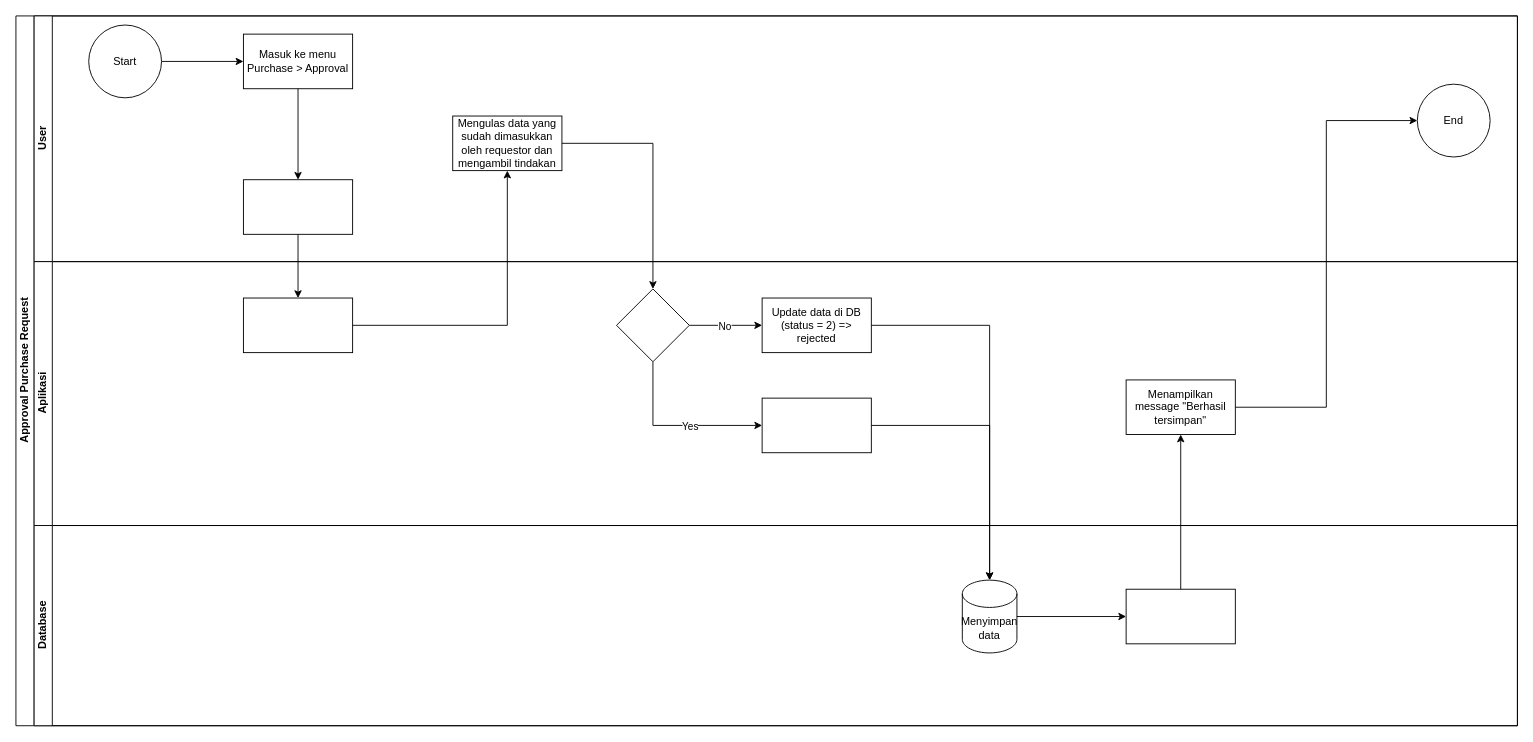
This 1533x742 diagram has some shape labels left out. Each missing label, with the centre of its shape:
"Approve?" belongs at (652,325).
"Data berhasil tersimpan" belongs at (1180,616).
"Klik tombol Action (Gambar pencil) untuk melakukan approval" belongs at (298,206).
"Menampilkan Purchase Request Detail" belongs at (298,325).
"Update data di DB (status = 1) => rejected" belongs at (816,425).
